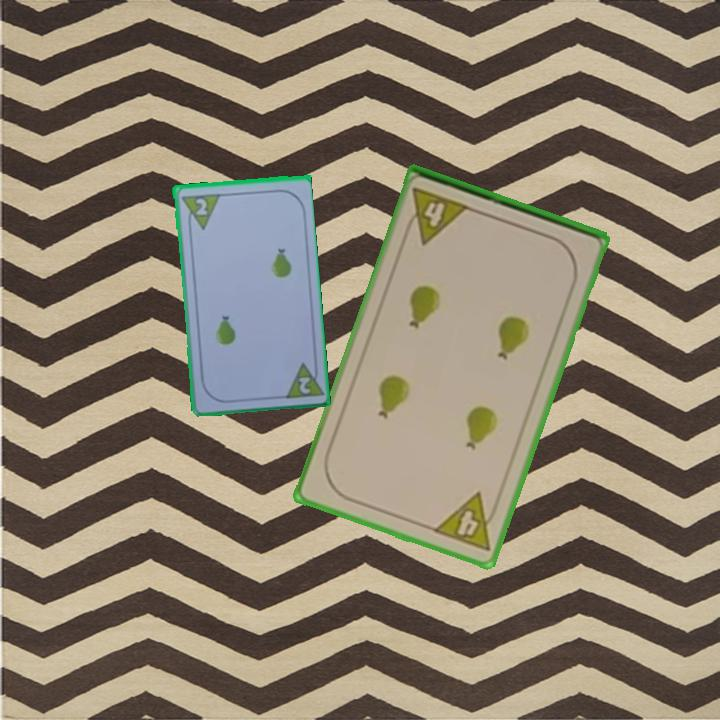2p: (177, 189, 221, 233), (295, 373, 313, 397)
4p: (429, 489, 503, 555), (400, 184, 473, 247)
